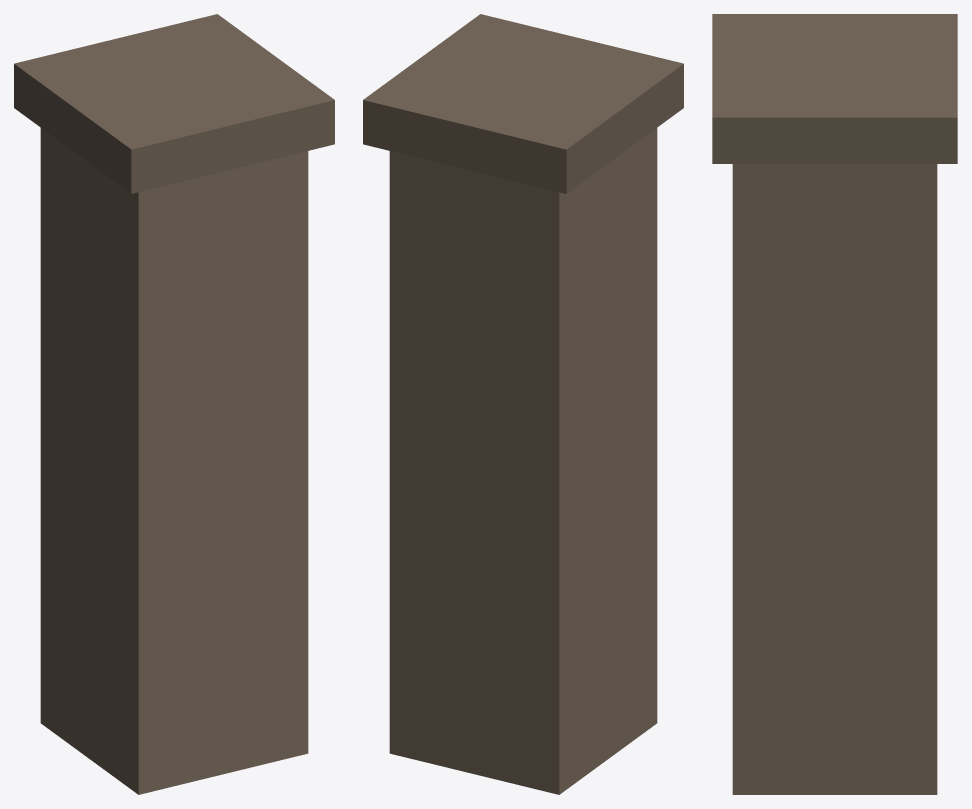
File: SM_Bldg_City_Apartment_Fence_02_Column.fbx
3 views of the same model, side by side, from view 1: azimuth 30°, elevation 25°; view 2: azimuth 150°, elevation 25°; view 3: azimuth 270°, elevation 25° (orthographic). The views are drawn at different scales.
Visible parts, largest first — view 1: SM_Bldg_City_Apartment_Fence_02_Column; view 2: SM_Bldg_City_Apartment_Fence_02_Column; view 3: SM_Bldg_City_Apartment_Fence_02_Column.
Part boxes in pixels (left/top/right/bottom): SM_Bldg_City_Apartment_Fence_02_Column: left=14, top=14, right=334, bottom=794; SM_Bldg_City_Apartment_Fence_02_Column: left=363, top=14, right=683, bottom=794; SM_Bldg_City_Apartment_Fence_02_Column: left=712, top=14, right=957, bottom=794.
Size of the model in its own units: 24 by 74 by 24.
